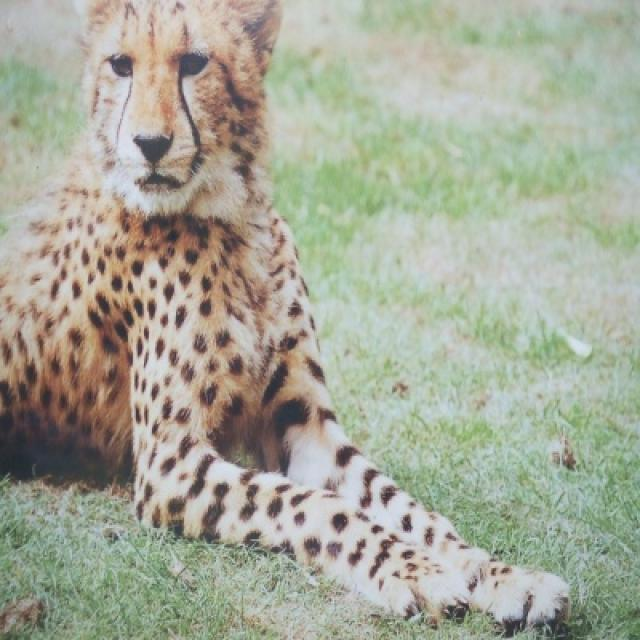Cheetah: (0, 0, 571, 638)
